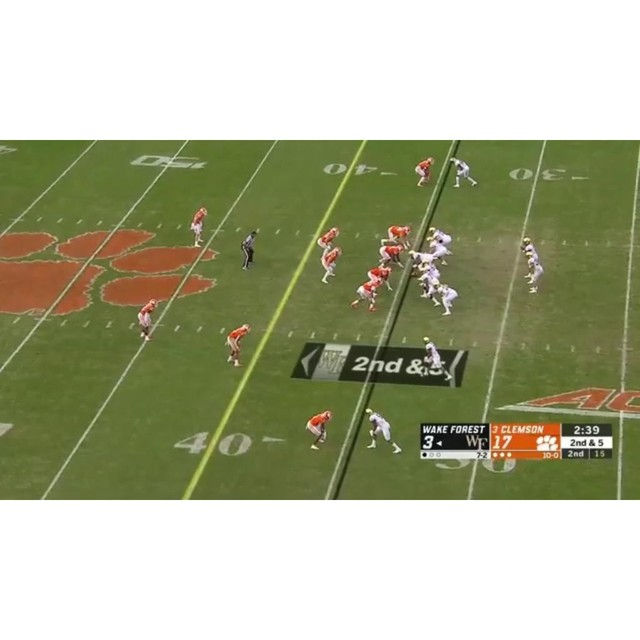american-football-player: (364, 408, 402, 455), (422, 335, 451, 380), (350, 275, 384, 312), (225, 323, 252, 367), (306, 410, 333, 450), (449, 156, 477, 188), (417, 269, 441, 306), (137, 298, 158, 340), (520, 237, 540, 281), (525, 251, 544, 295), (382, 225, 414, 251), (320, 246, 342, 283), (435, 283, 459, 316), (408, 249, 437, 276), (428, 227, 454, 256), (190, 206, 208, 247), (378, 244, 405, 270), (368, 265, 394, 292), (425, 237, 448, 266), (415, 156, 435, 188), (318, 226, 340, 255)
referee: (241, 228, 260, 270)
